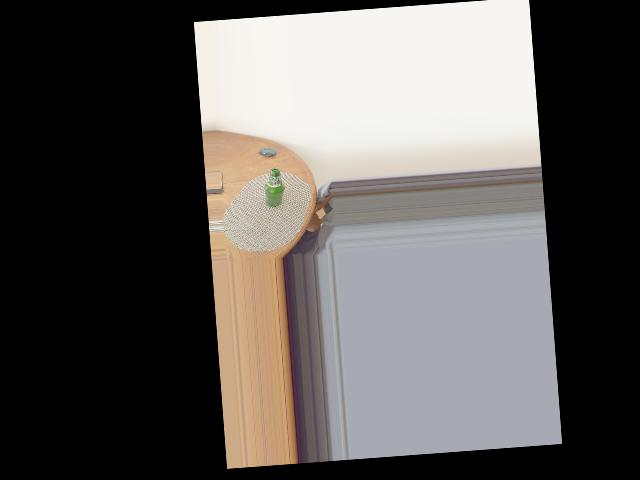beer: (261, 167, 286, 207)
